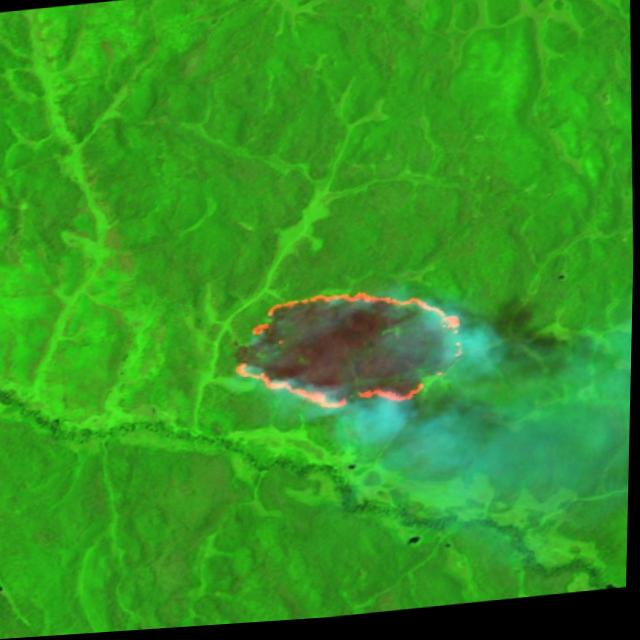fire: (221, 281, 478, 425)
